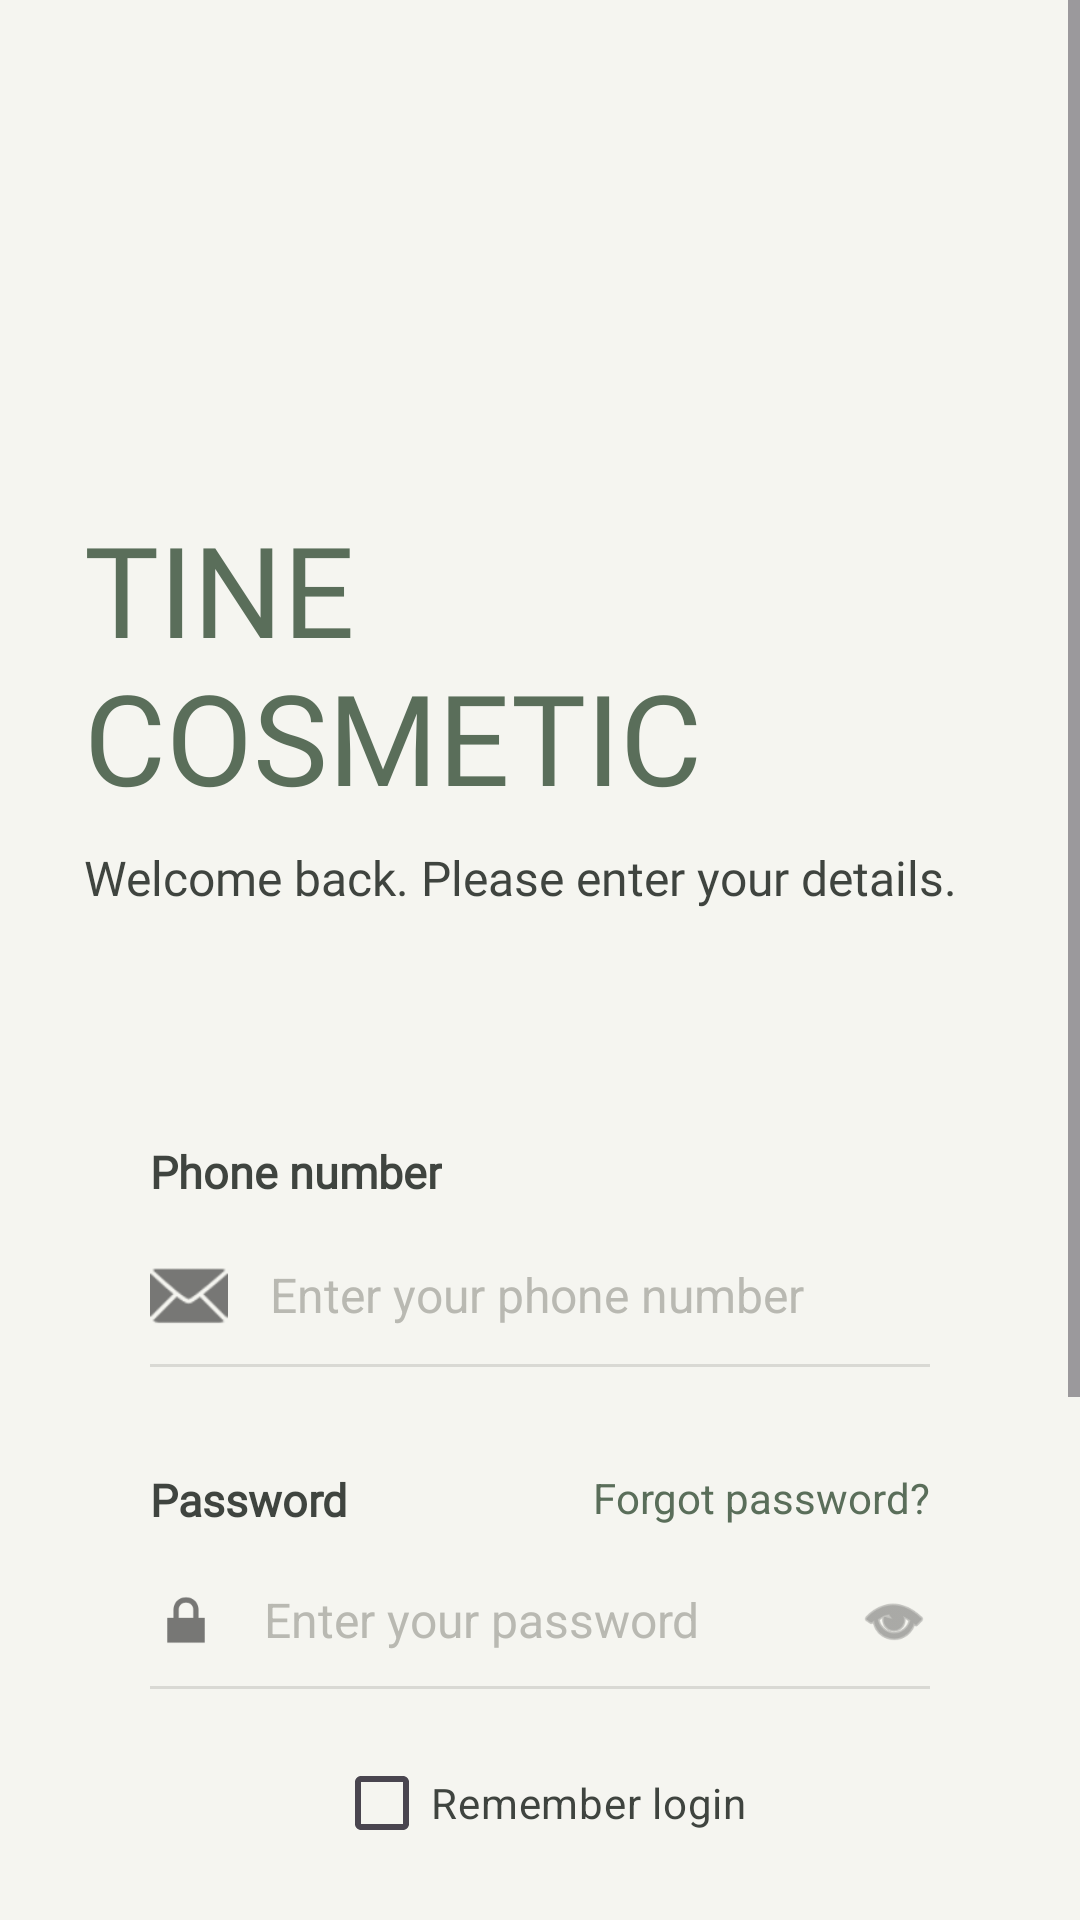

Icons on this 1080 x 1920 Android screen, each with the point to tap as (x=x, y=y):
email: (x=189, y=1295)
lock: (x=186, y=1620)
view: (x=894, y=1622)
